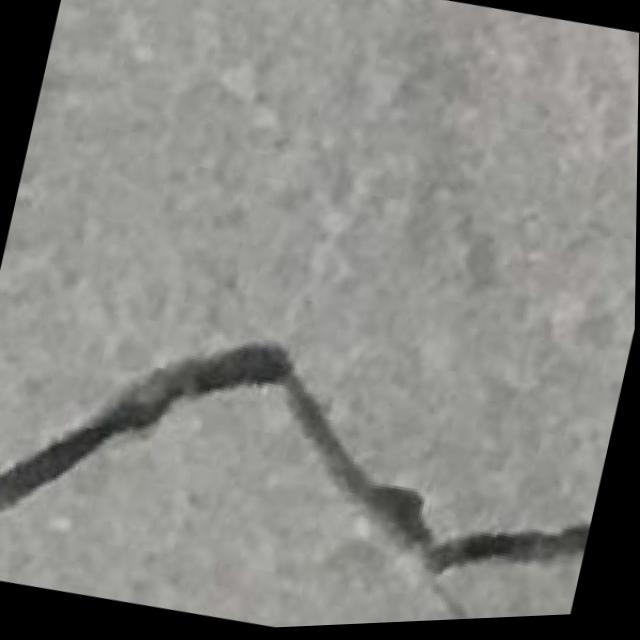Crack: (0, 269, 617, 629)
